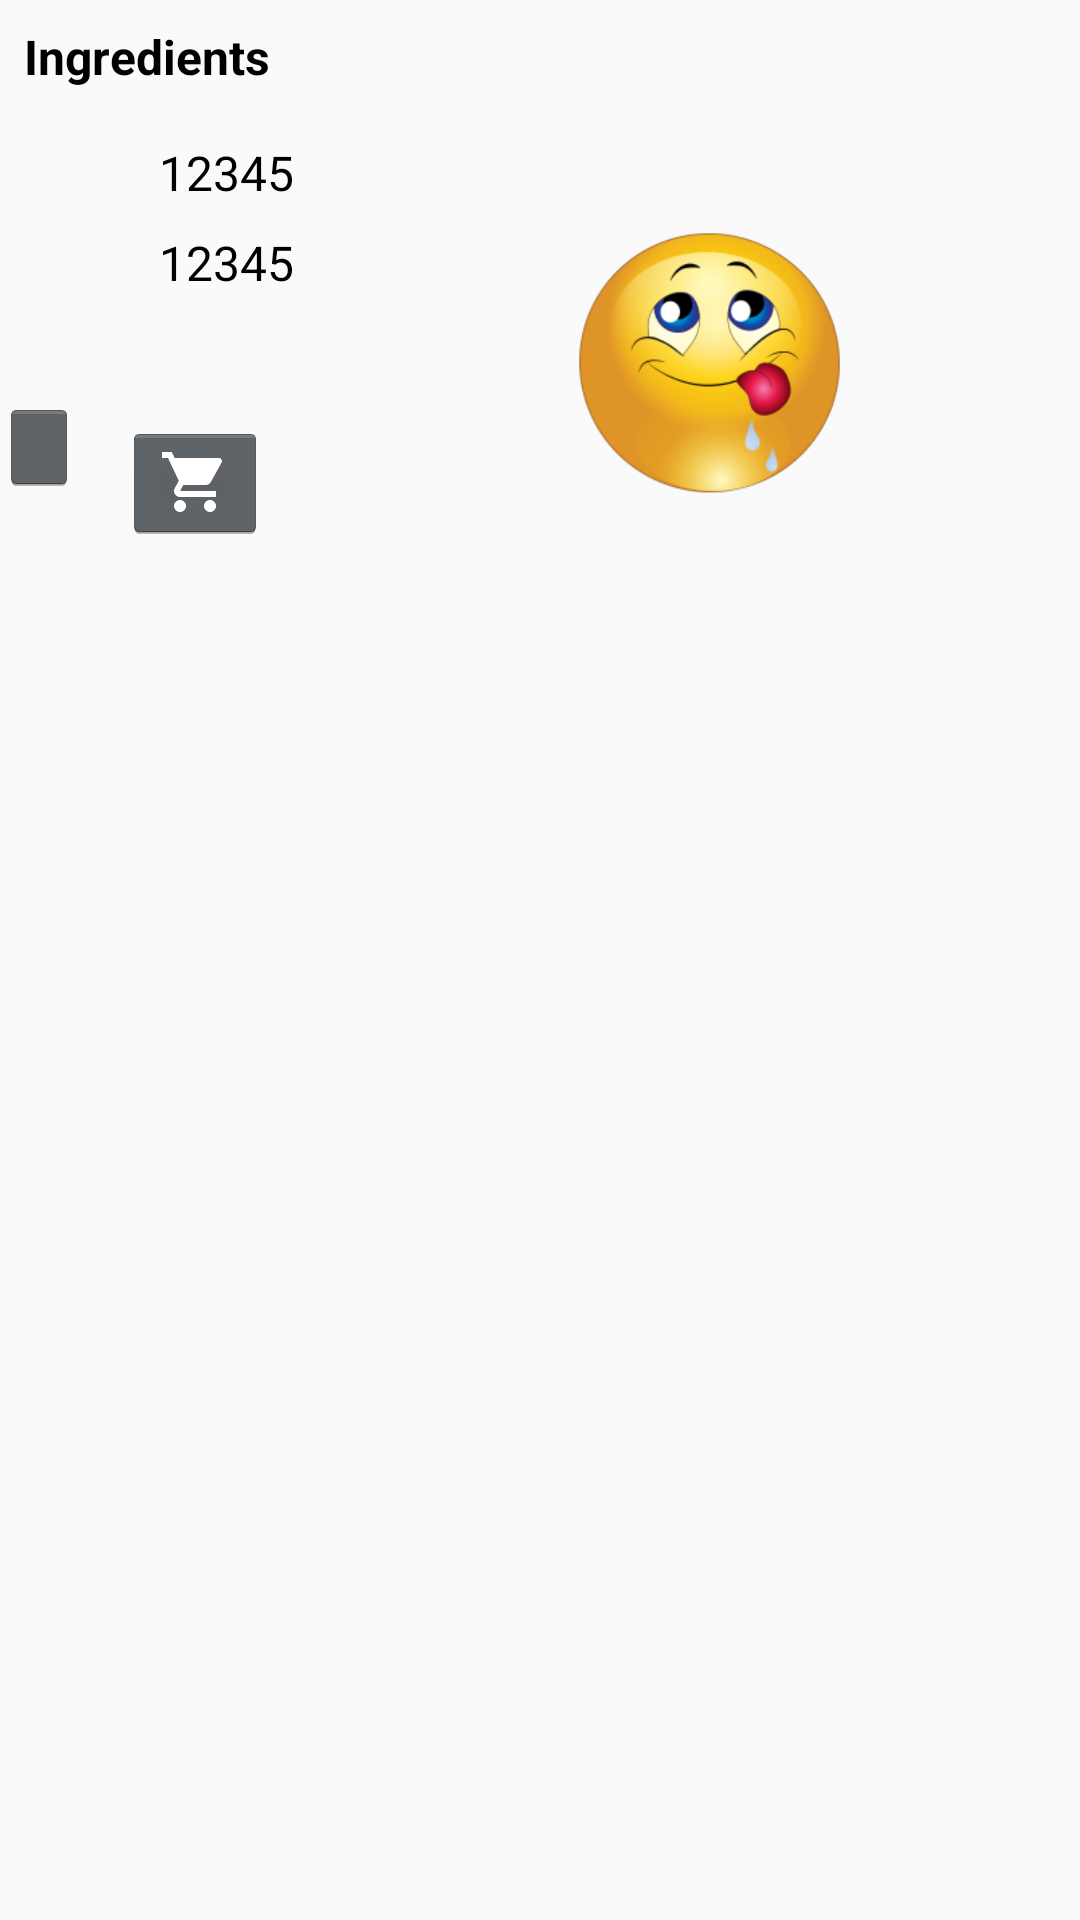

Screen size 1080×1920. Icon name, then its box in pixels as (x1, y1, x2, y2):
purchase list icon: (134, 434, 256, 534)
